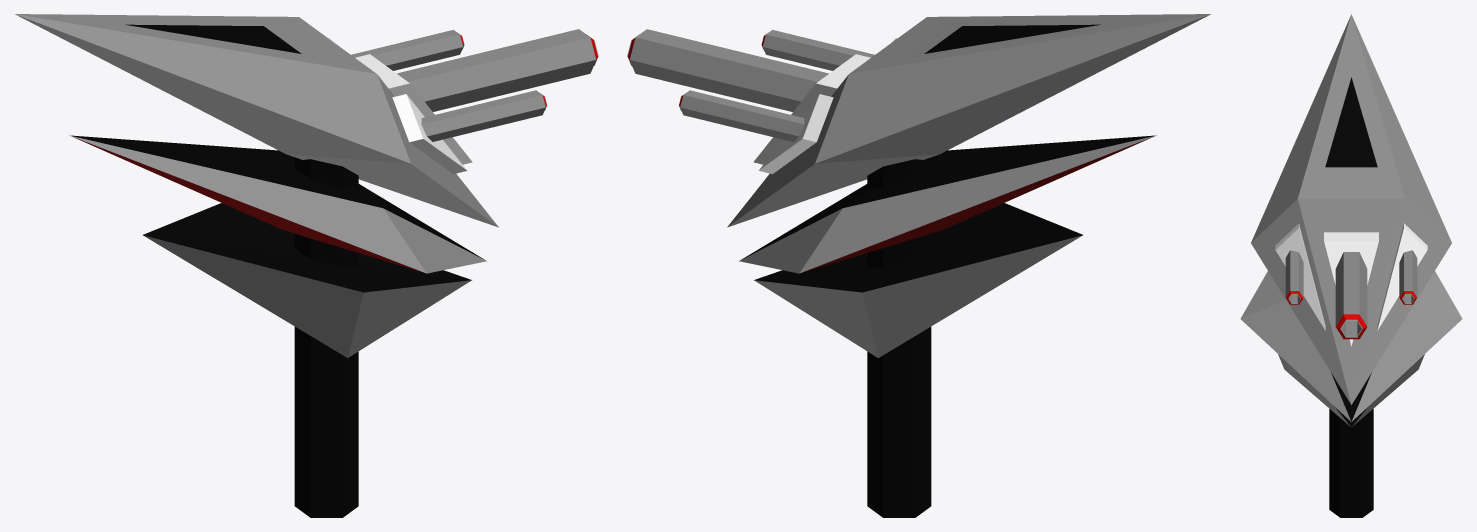
File: turret head.fbx
3 renders of one model, left to right at view 1: azimuth 30°, elevation 25°; view 2: azimuth 150°, elevation 25°; view 3: azimuth 270°, elevation 25°, orthographic. The views are drawn at different scales.
Parts seen in each view (by area): view 1: Cylinder.002, forhead light; view 2: Cylinder.002, forhead light; view 3: Cylinder.002, forhead light.
Boxes of the visible parts, box(x1,y1,x2,y2) form: Cylinder.002: box(15, 14, 598, 517); forhead light: box(84, 20, 328, 61); Cylinder.002: box(627, 14, 1210, 517); forhead light: box(897, 20, 1141, 61); Cylinder.002: box(1240, 14, 1462, 517); forhead light: box(1315, 54, 1387, 178).
Size of the model in its own units: 624 by 588 by 303.
